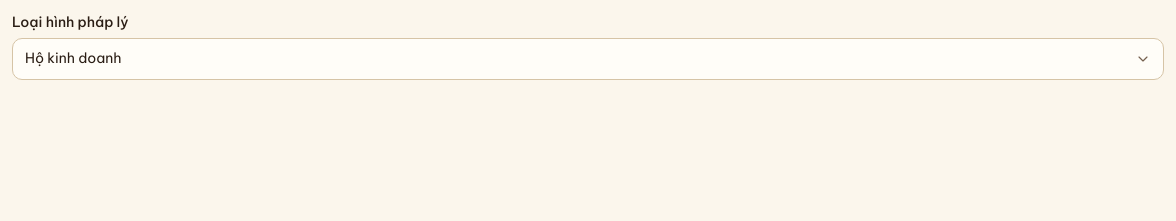
Shared UI - Select (listbox tự dựng) › đóng dropdown bằng Escape mà không đổi giá trị
Click the dropdown: (73, 58) x1=13 y1=48 x2=1163 y2=70
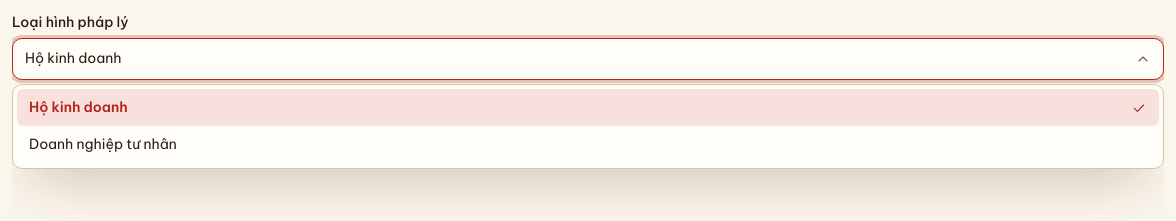
Press Escape
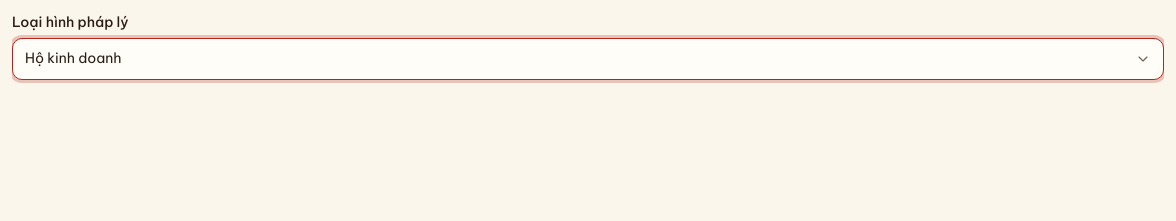
Check: the list is gone
